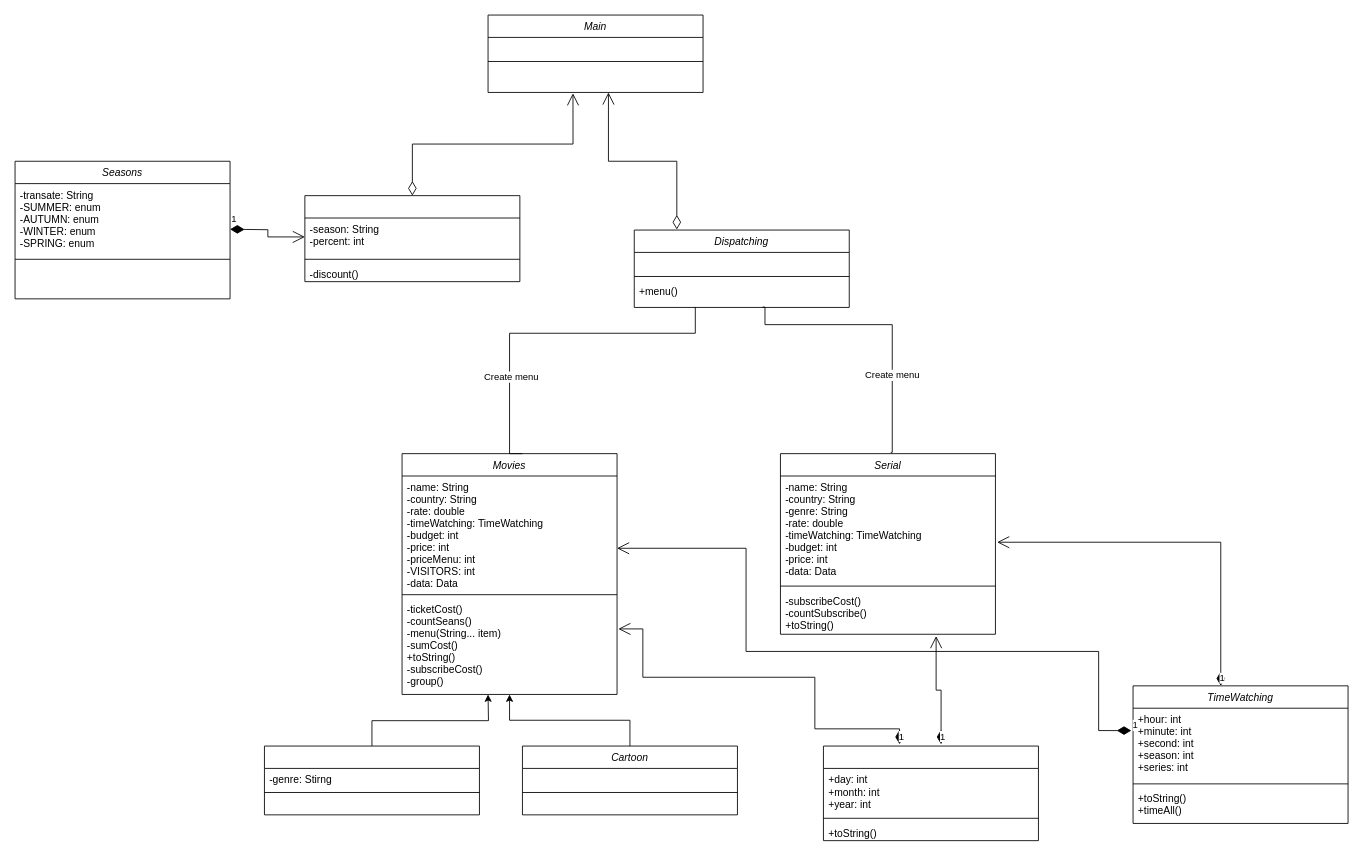
Image size: 1363x858. Some labels were removed from this diagram. Here are the shapes that lost their labels. From the top down, the box of each, then its label:
(304, 195, 520, 282): Action
(264, 745, 479, 815): Film
(823, 745, 1038, 841): Data
